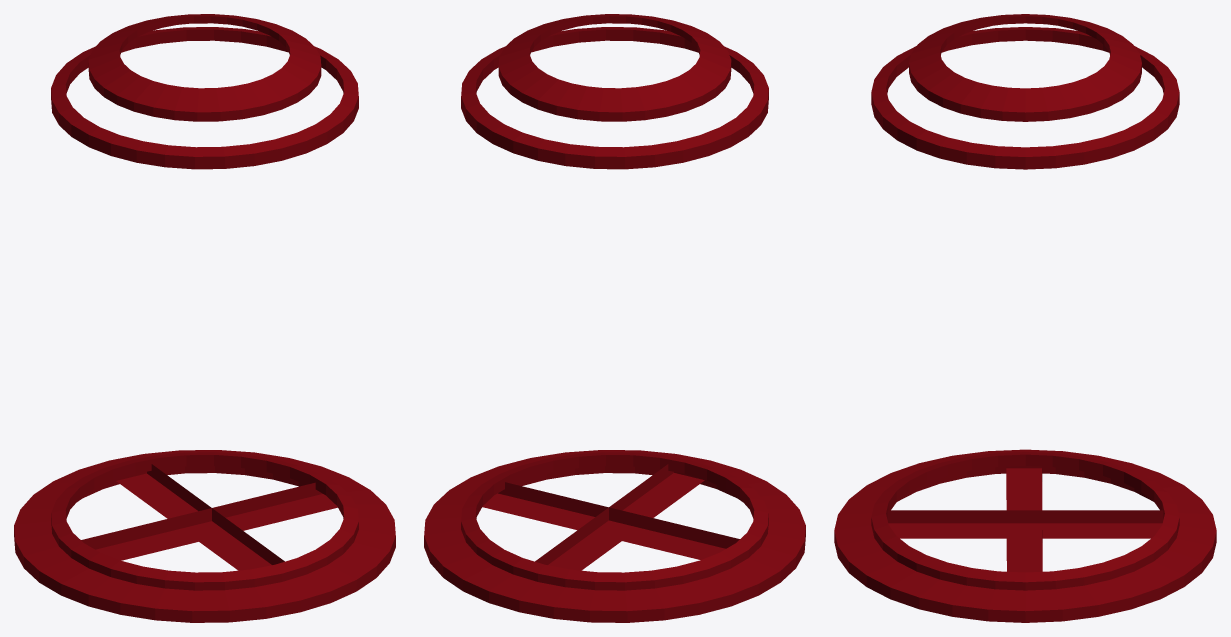
File: markeratt.fbx
3 renders of one model, left to right at view 1: azimuth 30°, elevation 25°; view 2: azimuth 150°, elevation 25°; view 3: azimuth 270°, elevation 25°, orthographic.
Visible parts, largest first — view 1: Circle.003; view 2: Circle.003; view 3: Circle.003.
Part boxes in pixels (x1=…): Circle.003: x1=14, y1=14, x2=395, y2=622; Circle.003: x1=424, y1=14, x2=805, y2=622; Circle.003: x1=834, y1=14, x2=1216, y2=622.
Bounding box in the file's own units: 781 × 1104 × 781.
